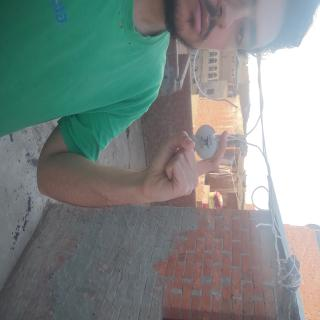RAA: (94, 118, 160, 240)
